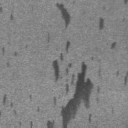red iron: (30, 41, 100, 128), (56, 2, 71, 28), (0, 7, 14, 20), (99, 18, 104, 30), (124, 72, 128, 85), (2, 94, 6, 104), (110, 42, 116, 48), (2, 48, 5, 56), (124, 0, 128, 5), (30, 94, 32, 101)
